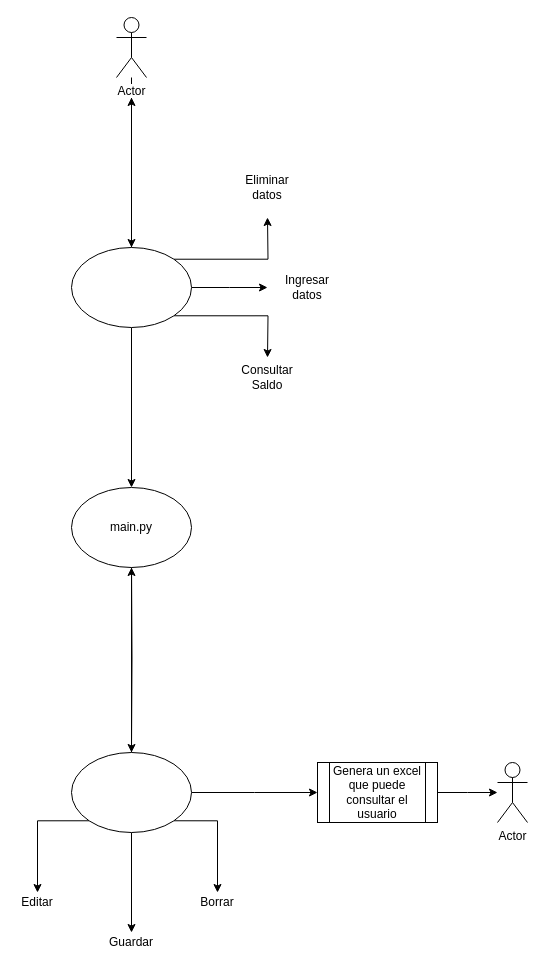
The diagram is 545 pixels wide and 970 high, and some of its shapes have lost their labels. The box of each missing label's shape, as (x1, y1, x2, y2) in pixels:
excel_controller.py: (70, 752, 192, 832)
telegram_bot.py: (70, 246, 192, 328)
